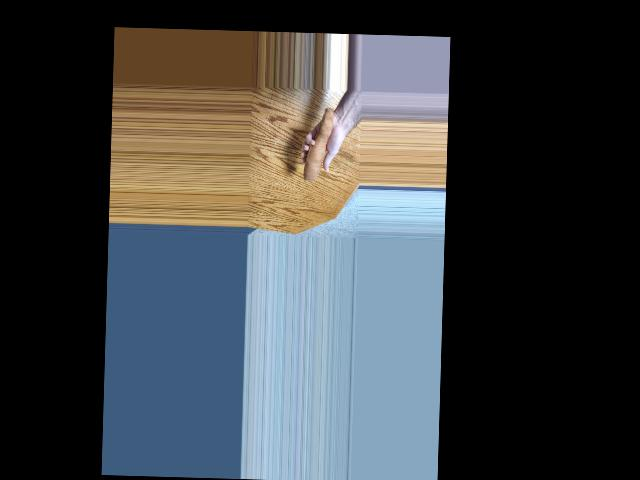sweet_potato: (300, 99, 334, 182)
